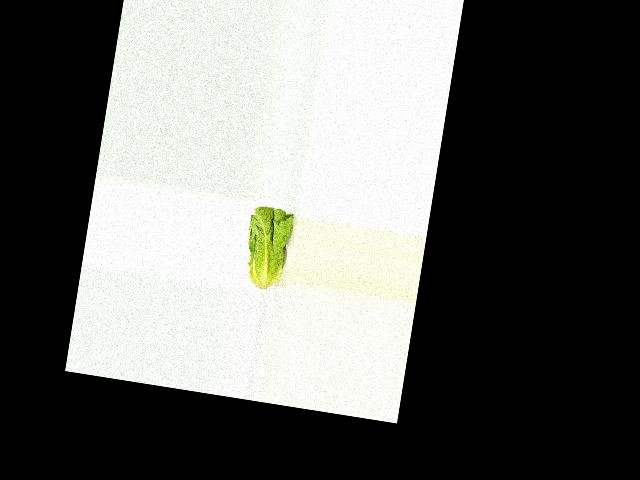lettuce: (238, 204, 295, 292)
